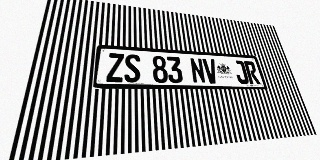3: (166, 56, 183, 83)
8: (152, 55, 168, 83)
J: (232, 60, 250, 84)
N: (189, 58, 206, 83)
R: (243, 61, 261, 84)
S: (124, 54, 141, 82)
V: (202, 58, 219, 84)
Z: (106, 53, 124, 82)
